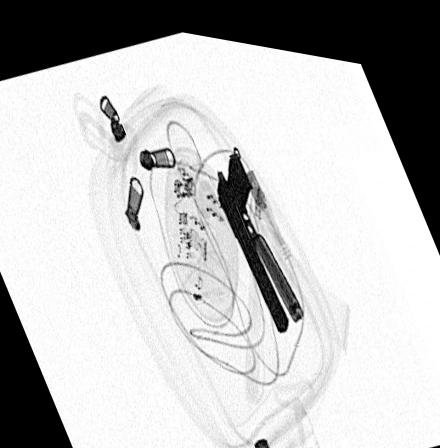Gun: (214, 137, 290, 323)
